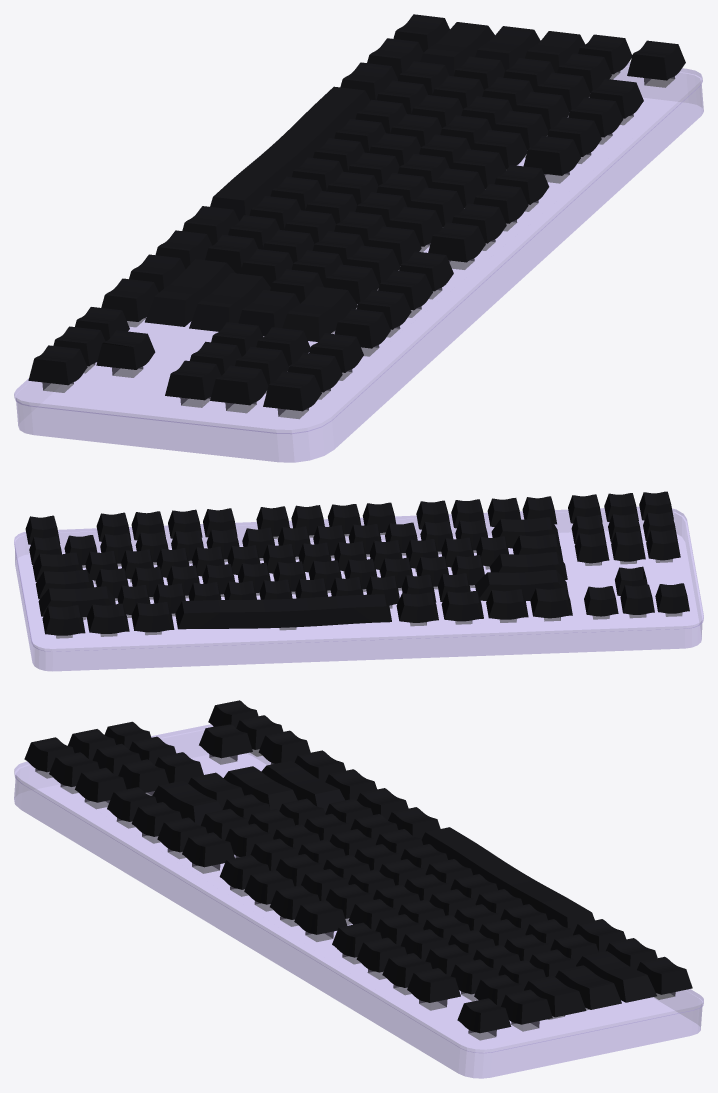
The model's file is hero-keyboard.glb.
The picture shows the model from 3 angles, top to bottom: view 1: azimuth 30°, elevation 25°; view 2: azimuth 150°, elevation 25°; view 3: azimuth 270°, elevation 25°; orthographic projection. The views are drawn at different scales.
Visible parts, largest first — view 1: Object_2.002; view 2: Object_2.002; view 3: Object_2.002.
Boxes of the visible parts, <box> form: Object_2.002: <box>14,14,703,462</box>; Object_2.002: <box>14,491,703,671</box>; Object_2.002: <box>14,700,703,1078</box>.
Size of the model in its own units: 0.7228 by 0.0763 by 0.6054.
